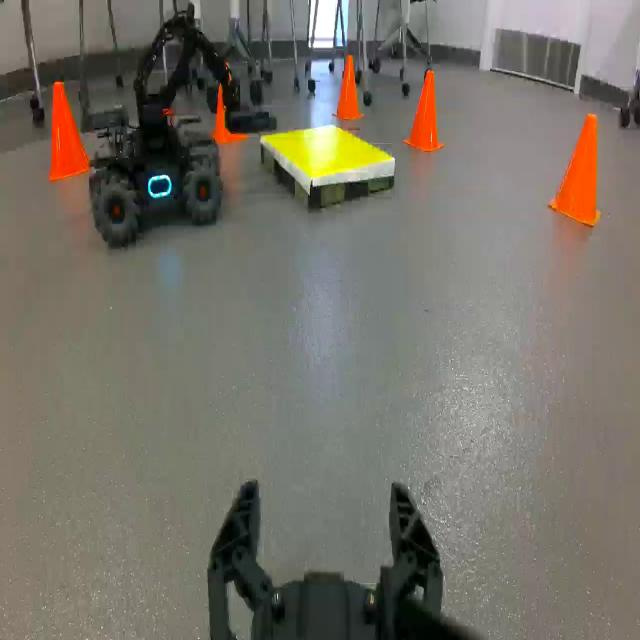cone: (550, 113, 602, 225), (48, 80, 89, 179), (404, 68, 444, 150), (334, 53, 364, 118), (215, 86, 246, 140)
robot: (80, 2, 276, 246)
yellow goal: (262, 121, 395, 210)
